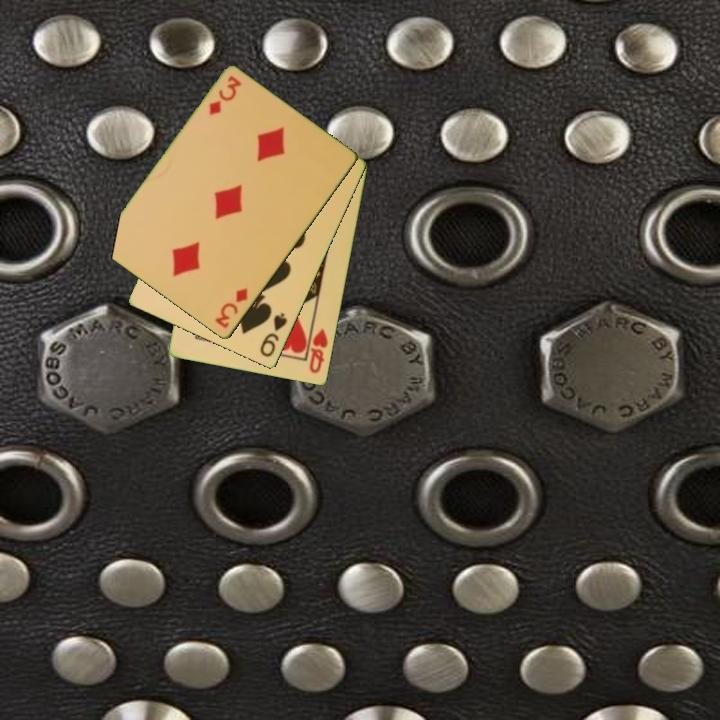3d: (211, 285, 251, 332), (205, 72, 245, 119)
9s: (257, 310, 291, 360)
Qh: (306, 325, 331, 376)
